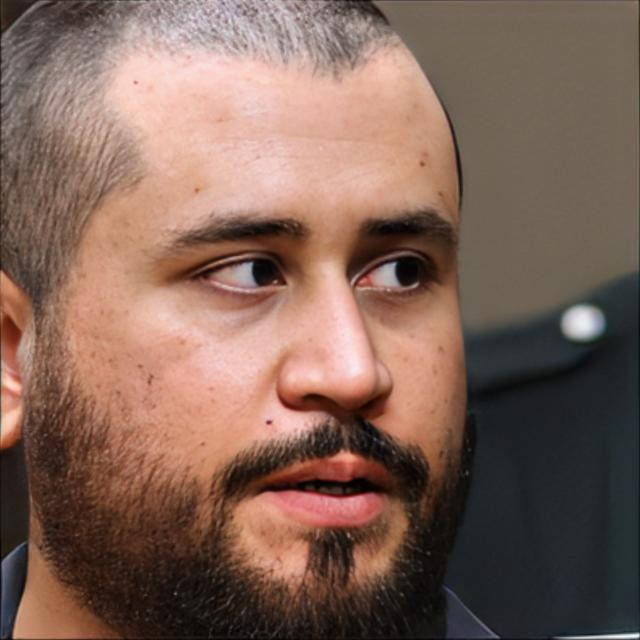neutral: (34, 0, 469, 632)
